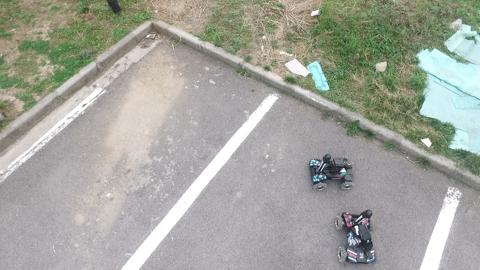chariot: (332, 207, 388, 267), (303, 147, 360, 200)
